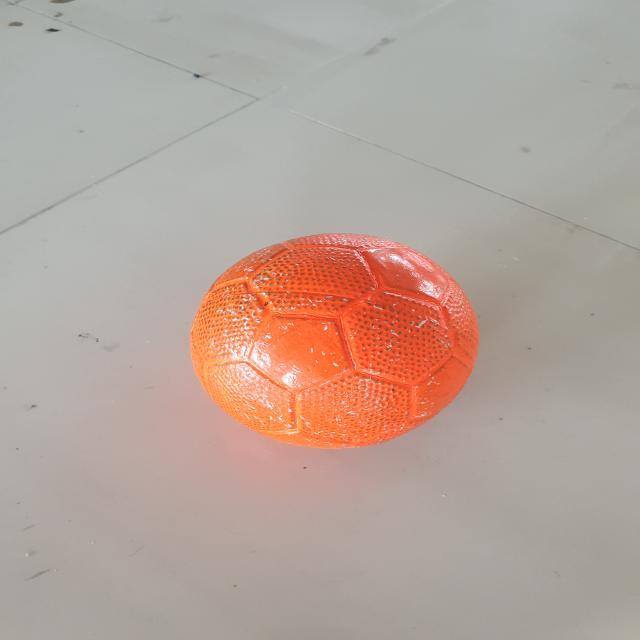bola: (188, 227, 483, 458)
